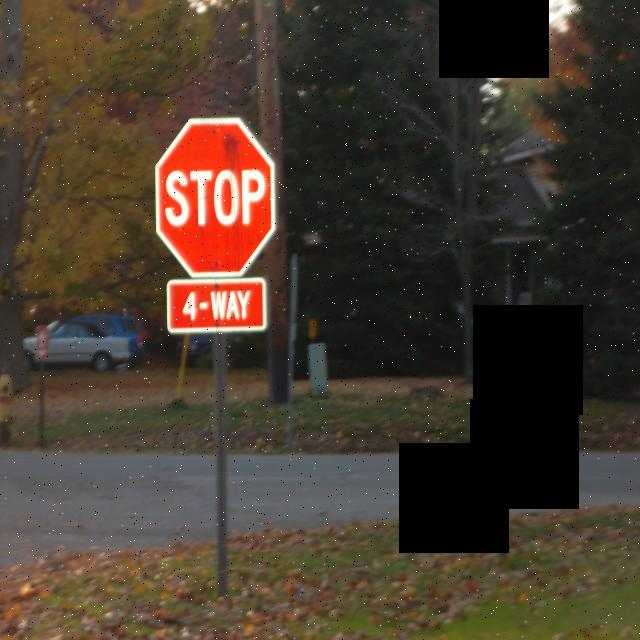stop: (144, 112, 285, 281)
